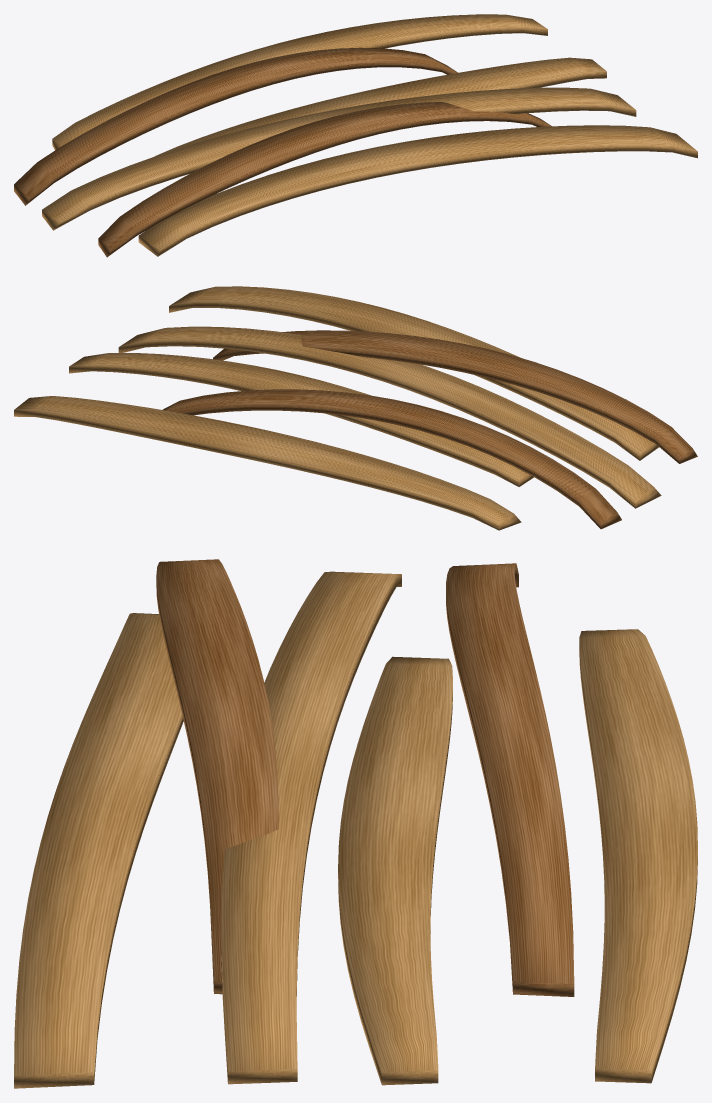
File: wicker_strip.glb
3 views of the same model, one above another, from view 1: azimuth 30°, elevation 25°; view 2: azimuth 150°, elevation 25°; view 3: azimuth 270°, elevation 25° (orthographic). The views are drawn at different scales.
Visible parts, largest first — view 1: wicker_strip; view 2: wicker_strip; view 3: wicker_strip.
Boxes of the visible parts, x1,y1,x2,y2 form: wicker_strip: [14, 14, 697, 257]; wicker_strip: [14, 286, 697, 530]; wicker_strip: [14, 559, 697, 1088].
Bounding box in the file's own units: 0.2244 × 0.0253 × 0.1259.
Materials: 2 (2 with a texture image).
